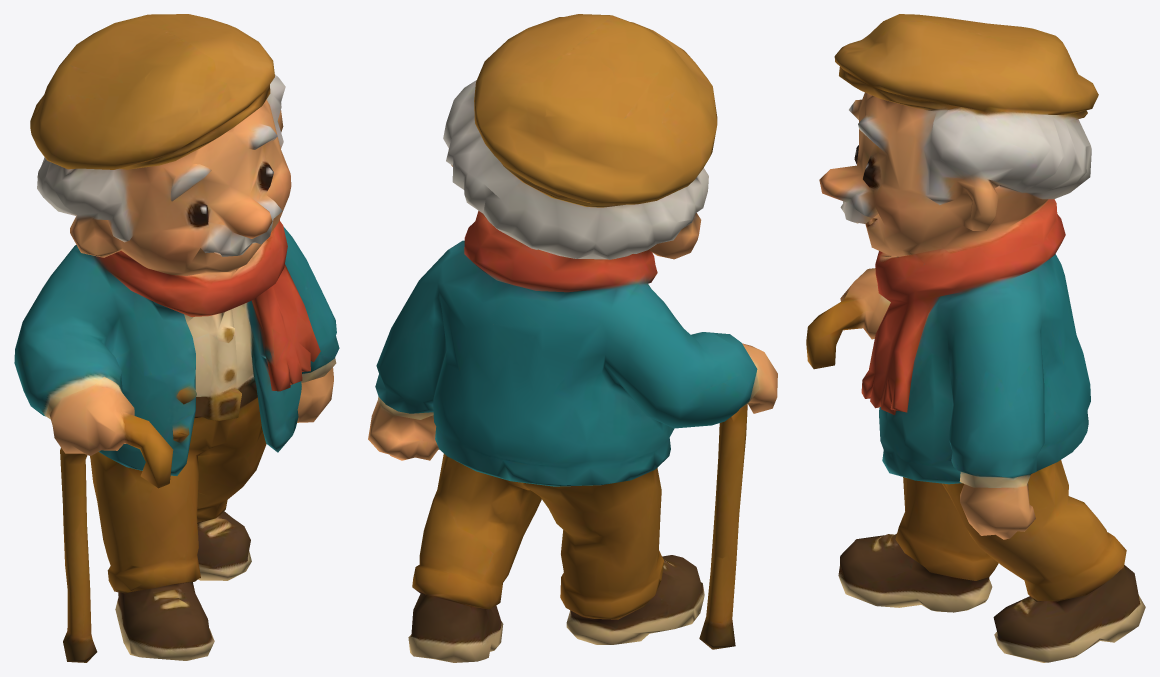
File: city-ped-senior.glb
3 views of the same model, side by side, from view 1: azimuth 30°, elevation 25°; view 2: azimuth 150°, elevation 25°; view 3: azimuth 270°, elevation 25° (orthographic).
Visible parts, largest first — view 1: city-ped-senior; view 2: city-ped-senior; view 3: city-ped-senior.
Part boxes in pixels (x1=…): city-ped-senior: x1=14, y1=14, x2=339, y2=662; city-ped-senior: x1=368, y1=14, x2=777, y2=662; city-ped-senior: x1=806, y1=14, x2=1145, y2=662.
Bounding box in the file's own units: 0.9221 × 1.55 × 0.8089.
1 material, 1 textured.
